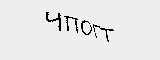Г: (91, 24, 101, 40)
О: (81, 18, 93, 37)
П: (66, 15, 79, 36)
Т: (101, 26, 115, 44)
Ч: (44, 11, 64, 34)
